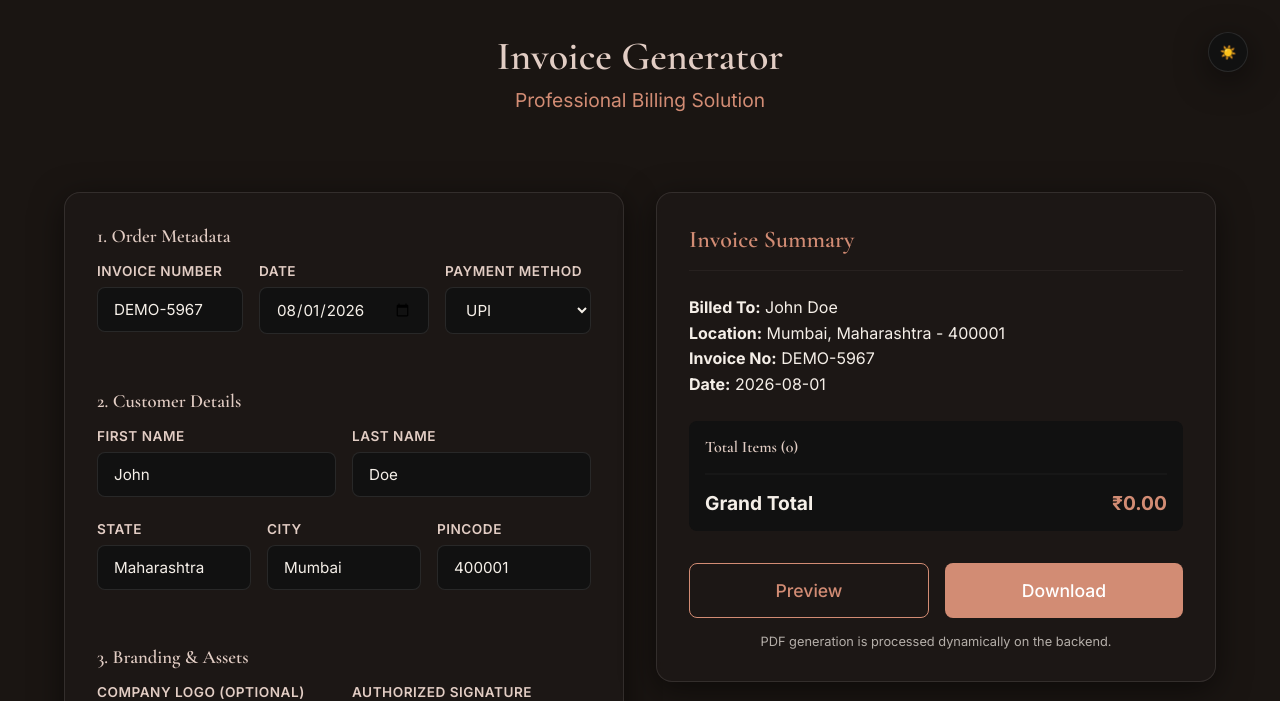
Test: App Component › shows validation error when attempting to generate empty invoice
The width and height of the screenshot is (1280, 701).
Click the button "Download". click: {"x": 1064, "y": 591}
box: [945,563,1183,618]
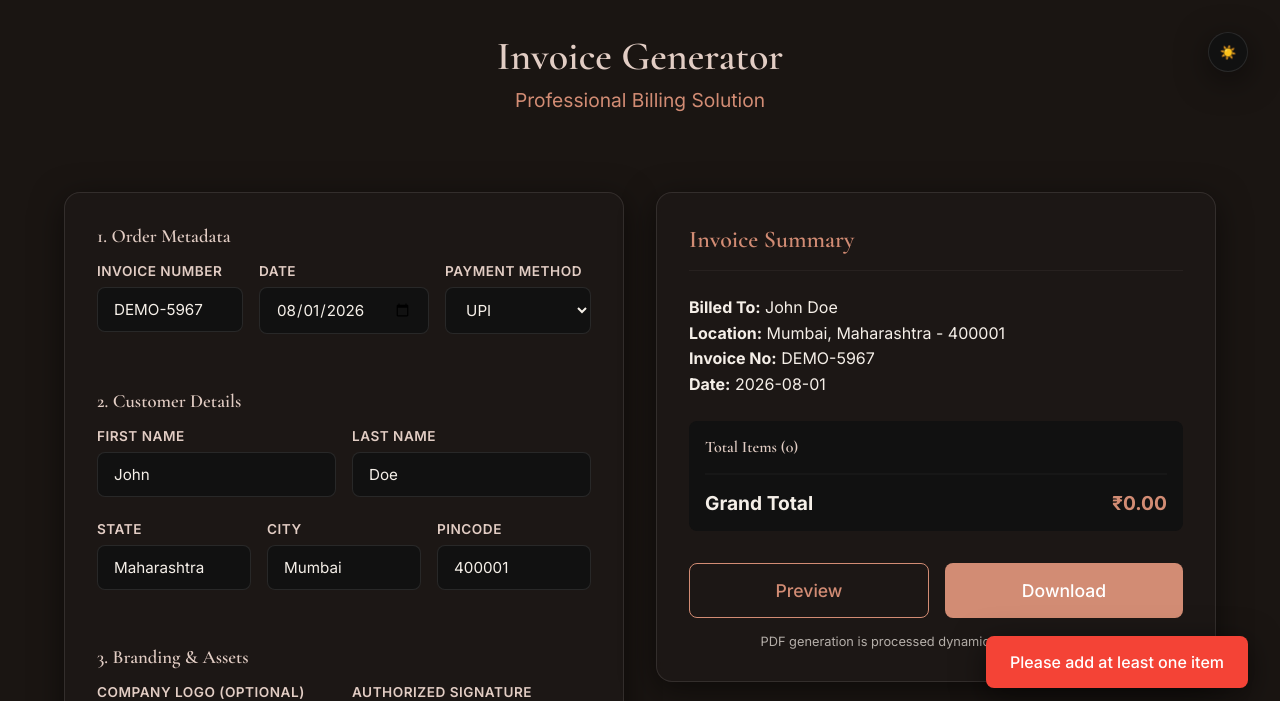
expect the text "Please add at least one item" is shown: met, box [986,636,1248,688]
